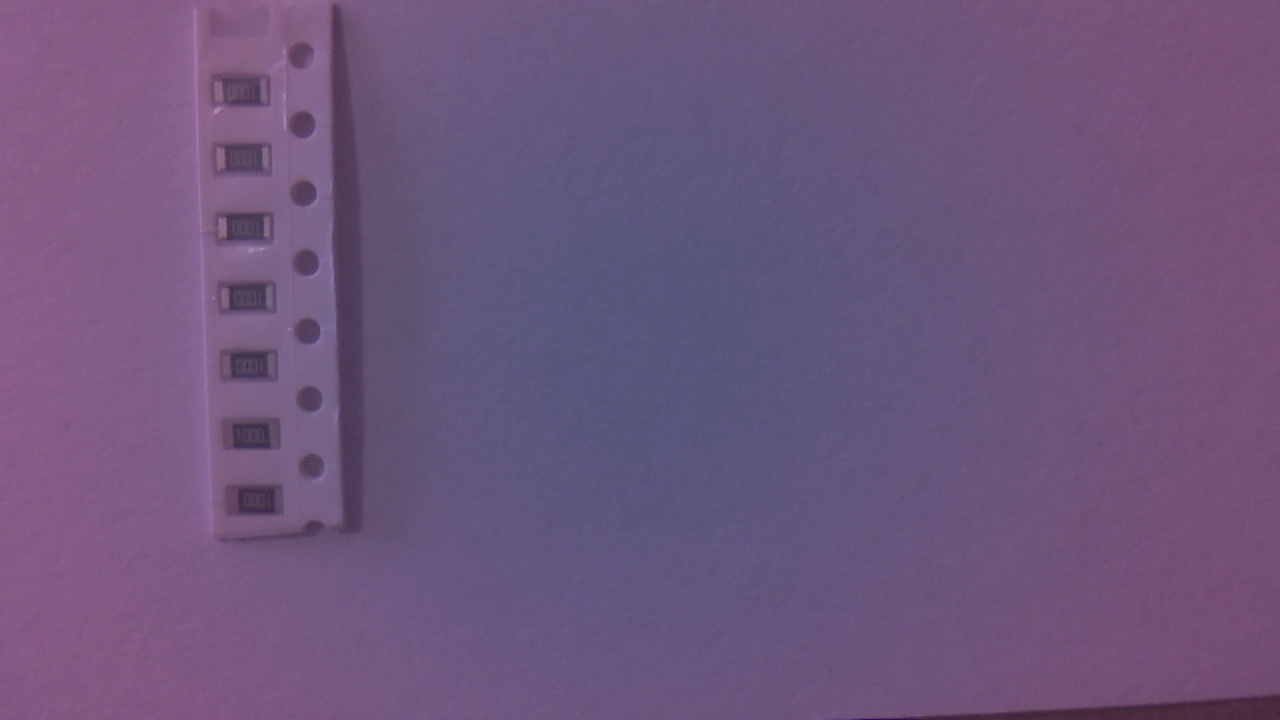Resistor: (221, 145, 282, 181), (227, 356, 287, 391), (228, 422, 288, 457), (218, 216, 281, 249), (216, 79, 278, 112), (230, 489, 289, 523), (223, 285, 281, 319)
